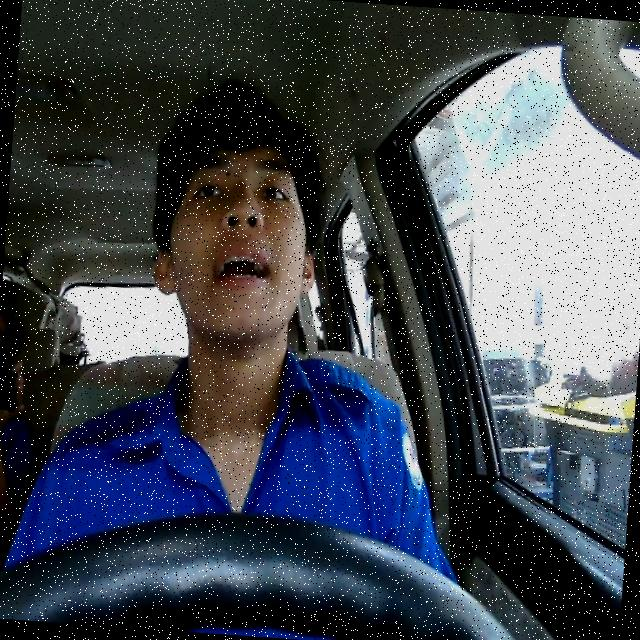yarning: (146, 140, 324, 343)
